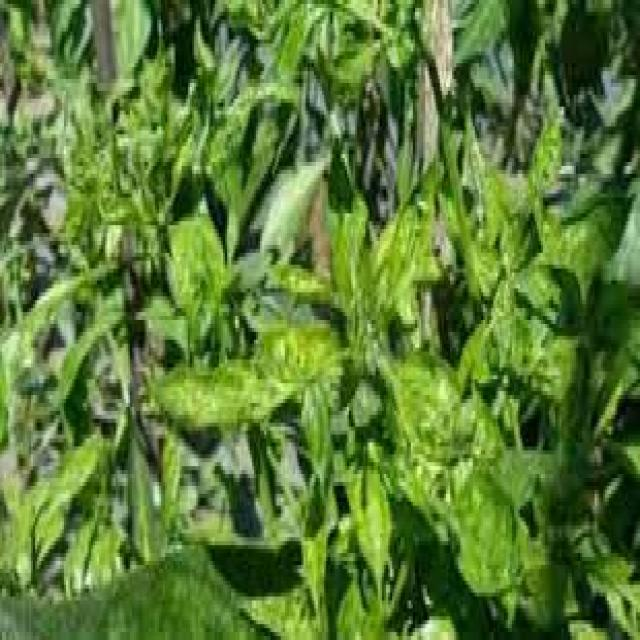Nutirtion_deficie: (289, 135, 603, 640), (0, 0, 212, 442), (210, 202, 368, 506)
